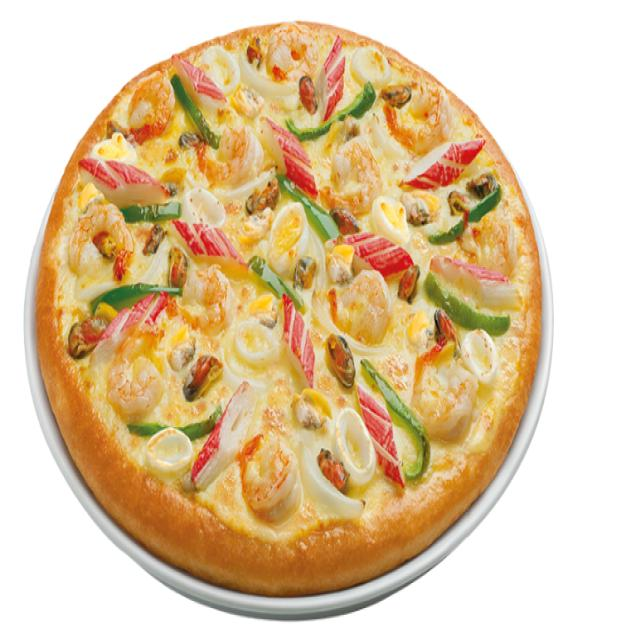Seafood Deluxe pizza: (60, 124, 352, 527)
